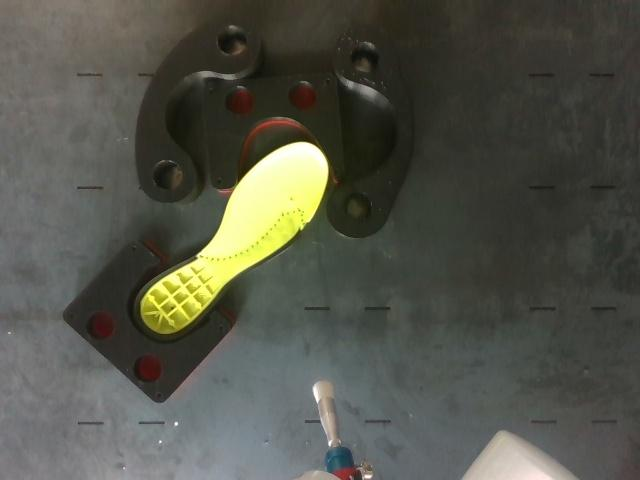shoes: (133, 142, 328, 340)
